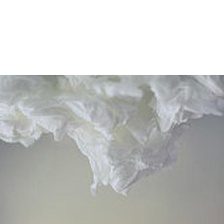tissue: (0, 75, 224, 203)
